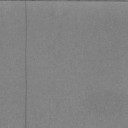surface scratch: (24, 0, 28, 128)
